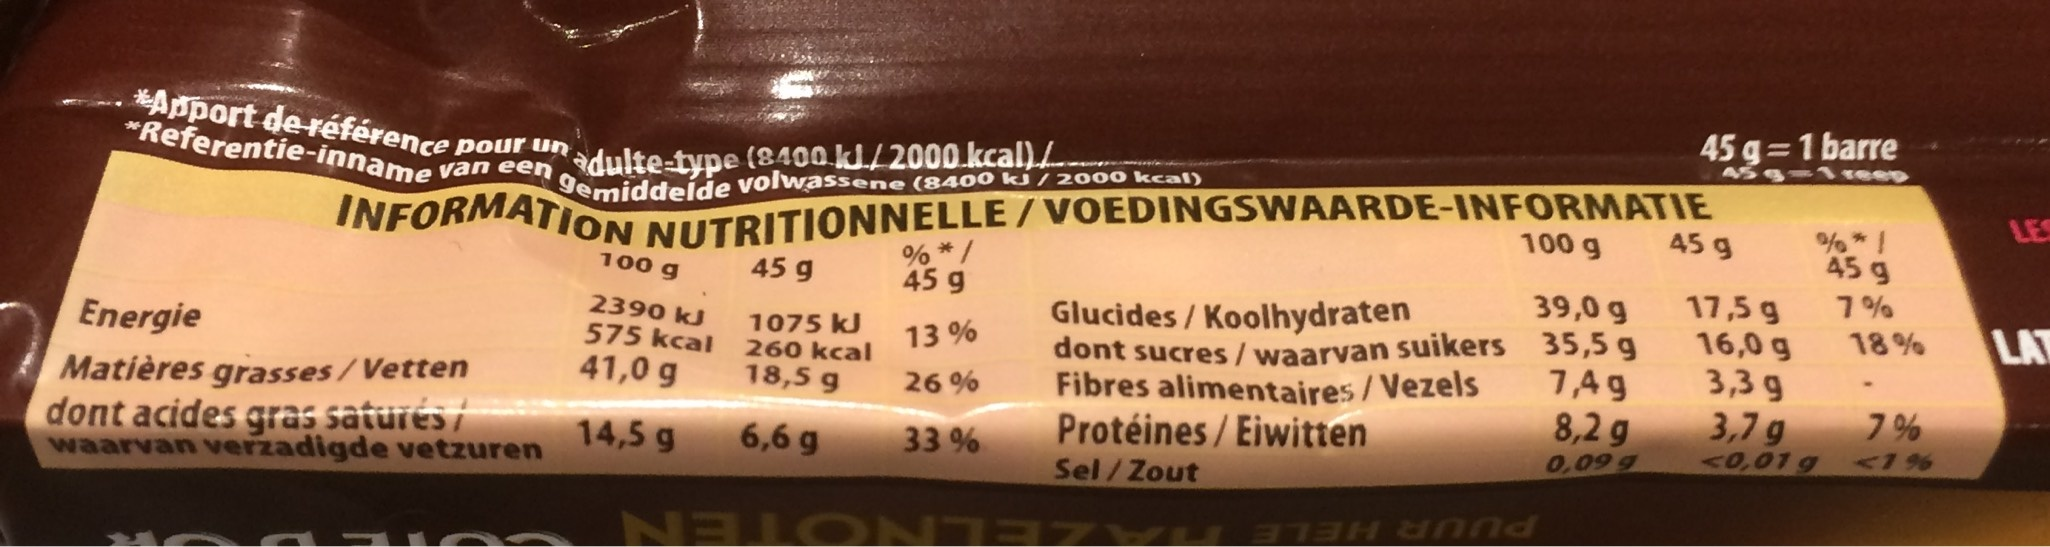column: (44, 288, 548, 479), (1049, 293, 1505, 484), (1667, 232, 1813, 478), (1515, 230, 1643, 478), (570, 249, 713, 463), (1823, 222, 1939, 472), (737, 256, 875, 462), (899, 239, 987, 463)
table: (37, 175, 2004, 497)
